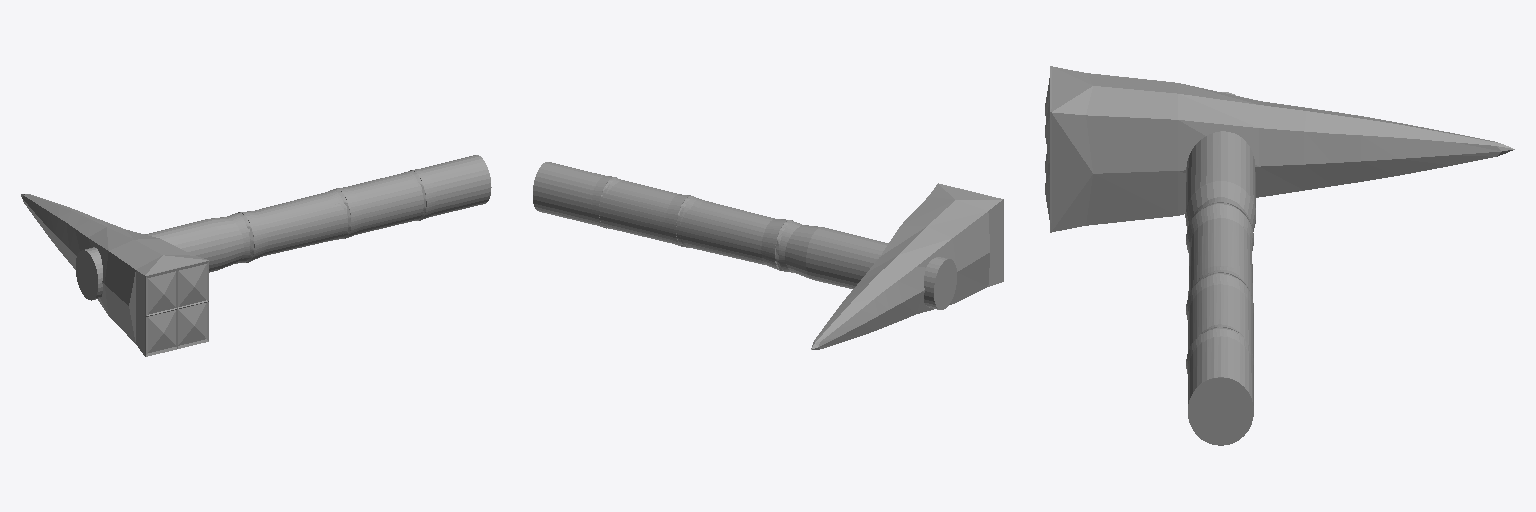
URDF robot description (hammer):
<?xml version="1.0" ?>
<robot name="hammer">
  <link name="hammer">
    <inertial>
      <mass value=".25"/>
      <origin rpy="0 0 0" xyz="0 0 0"/>
      <inertia ixx="0.01" ixy="0" ixz="0" iyy="0.01" iyz="0" izz="0.01"/>
    </inertial>
    <visual>
      <origin rpy="0 0 0" xyz="0 0 0"/>
      <geometry>
          <mesh filename="hammer3.obj"/>
      </geometry>
      <material name="Grey">
        <color rgba="0.65 0.65 0.65 1"/>
      </material>
    </visual>
    <collision>
      <origin rpy="0 0 0" xyz="0 0 0"/>
      <geometry>
        <mesh filename="head.obj"/>
      </geometry>
    </collision>
    <collision>
      <origin rpy="0 0 0" xyz="0 0 0"/>
      <geometry>
        <mesh filename="handle.obj"/>
      </geometry>
    </collision>
    
  </link>
</robot>

--- Render facts (derived) ---
The picture shows the robot from 3 angles, left to right: view 1: azimuth 30°, elevation 25°; view 2: azimuth 150°, elevation 25°; view 3: azimuth 270°, elevation 25°; orthographic projection.
Model hammer with 1 links and 0 joints (none), rooted at hammer, posed all joints at 0.
Visible links, largest first — view 1: hammer; view 2: hammer; view 3: hammer.
Boxes of the visible links, box(x1,y1,x2,y2) form: hammer: box(21, 155, 491, 356); hammer: box(533, 162, 1003, 349); hammer: box(1045, 66, 1514, 445).
Bounding box of the posed robot: 0.3024 × 0.2109 × 0.0628 m (x, y, z).
Meshes: 1 distinct files referenced, 1 mesh visuals loaded (1 OBJ).